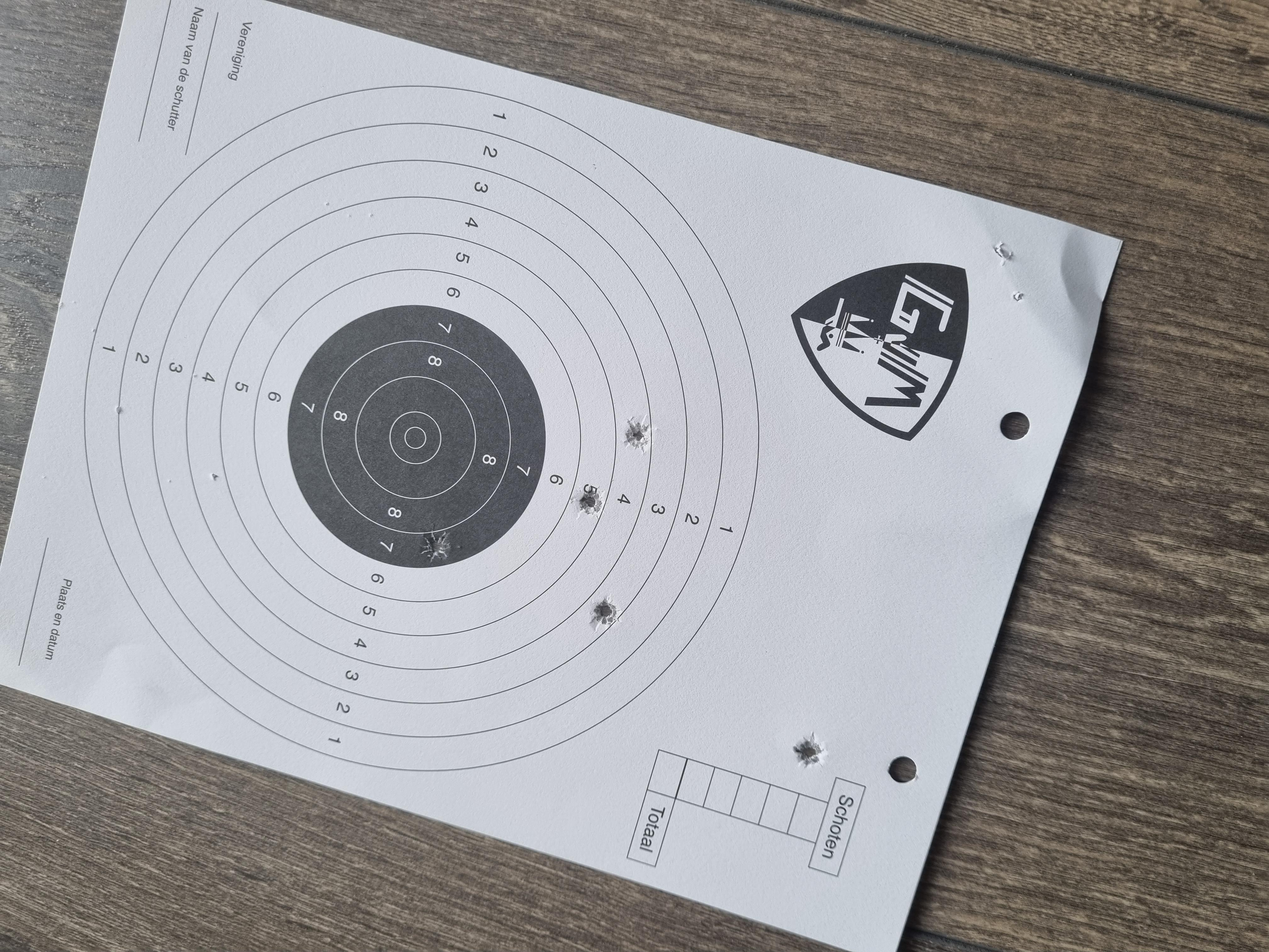hole: (663, 463, 713, 493), (241, 592, 289, 620), (428, 439, 476, 466), (519, 314, 567, 339), (575, 428, 623, 453)
